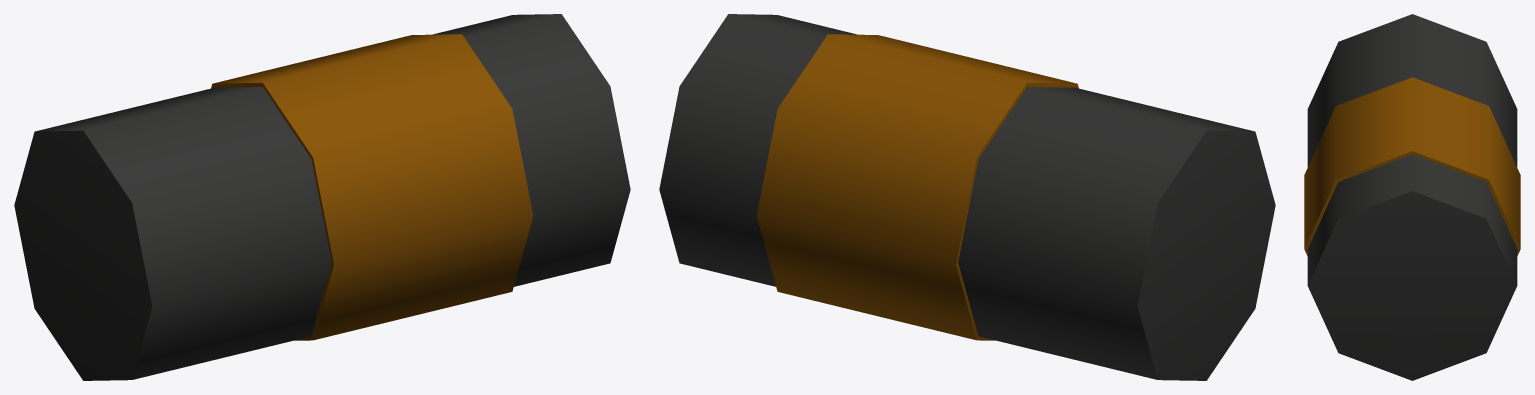
Rendered from rocket-fuel.glb.
3 views of the same model, side by side, from view 1: azimuth 30°, elevation 25°; view 2: azimuth 150°, elevation 25°; view 3: azimuth 270°, elevation 25° (orthographic). The views are drawn at different scales.
Parts seen in each view (by area): view 1: rocket-fuel; view 2: rocket-fuel; view 3: rocket-fuel.
Part boxes in pixels (x1,y1,x2,y2): rocket-fuel: (14,14,630,380); rocket-fuel: (659,14,1275,380); rocket-fuel: (1304,14,1520,380).
Bounding box in the file's own units: 0.24 × 0.124 × 0.124.
